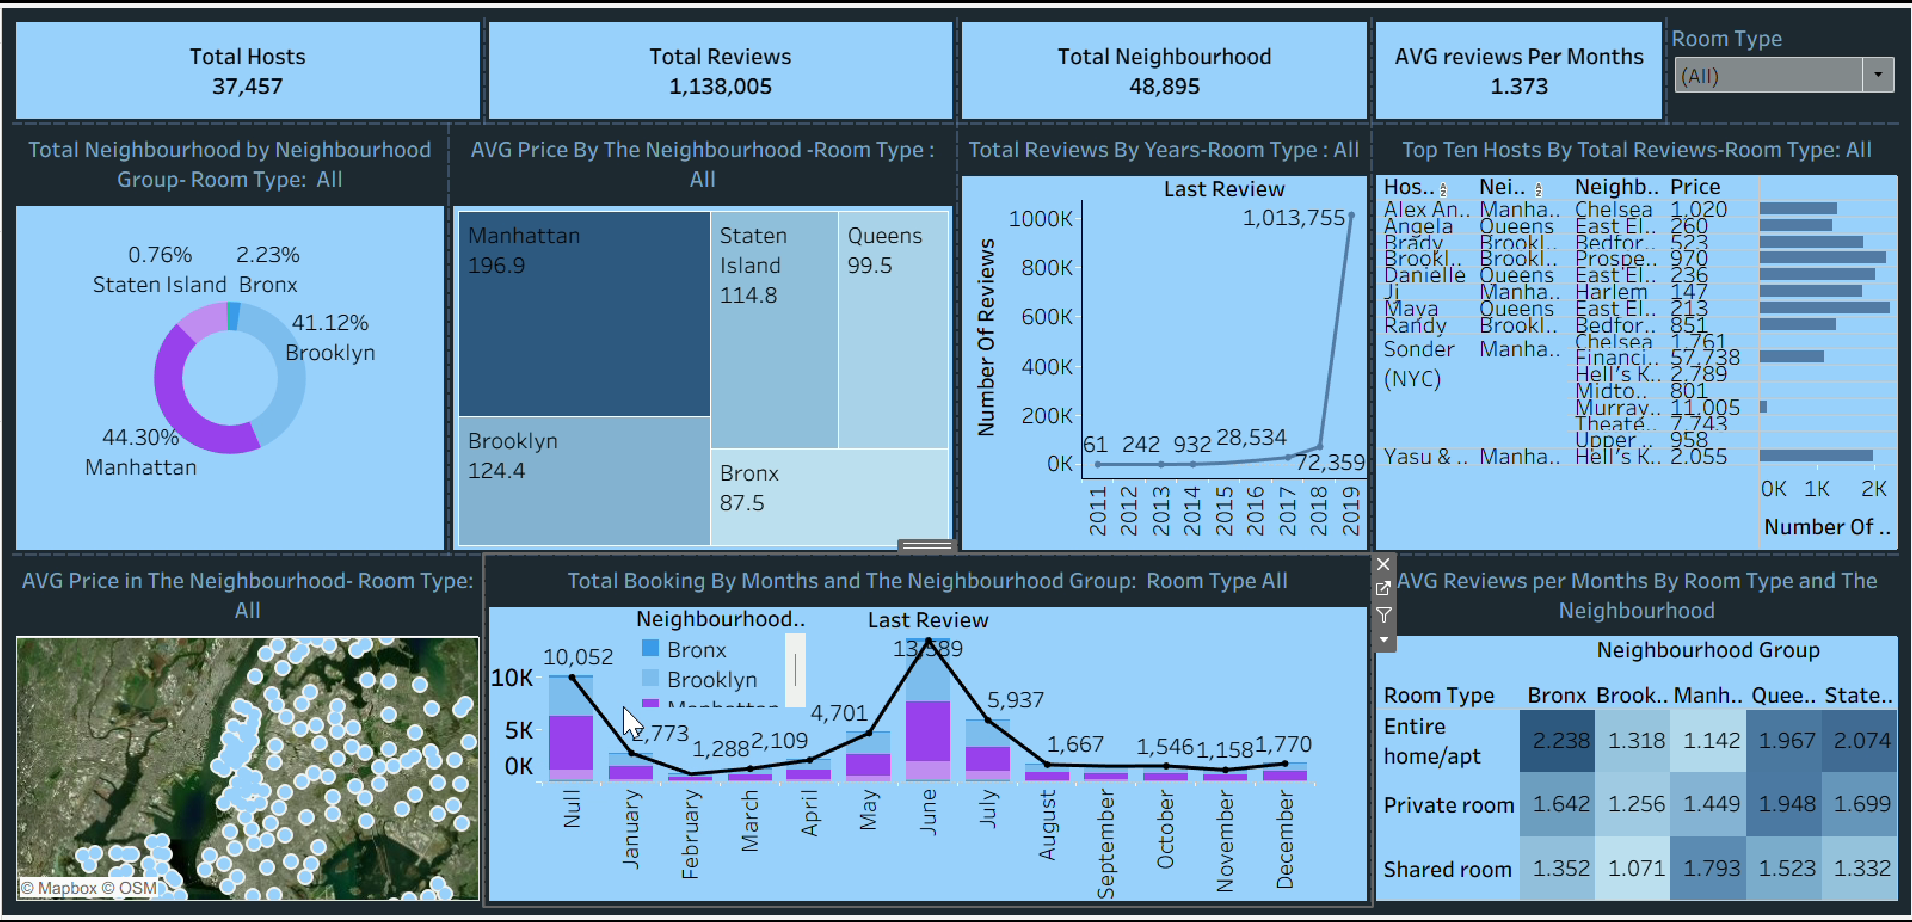

The page's visual inventory and layout, read from the dashboard file:
{"tool":"tableau","page":{"name":"Dashboard 1","canvas":[1600,760],"ordinal":0},"visuals":[{"type":"worksheet","title":"Sheet 8","mark":"Automatic","box":[8,8,396,89]},{"type":"worksheet","title":"Sheet 10","mark":"Automatic","box":[404,8,396,89]},{"type":"worksheet","title":"Sheet 9","mark":"Automatic","box":[800,8,347,89]},{"type":"worksheet","title":"Sheet 11","mark":"Automatic","box":[1147,8,247,89]},{"type":"filter","title":"Sheet 2","param":"[federated.0wsu5uz0jcg80z14oqvrx0cnjrel].[none:room_type:nk]","box":[1394,8,198,70]},{"type":"worksheet","title":"Sheet 2","mark":"Pie","rows":["Calculation_1040204455202817","Calculation_1040204455202817"],"box":[8,97,366,361]},{"type":"worksheet","title":"Sheet 5","mark":"Automatic","box":[374,97,426,361]},{"type":"worksheet","title":"Sheet 4","mark":"Automatic","rows":["number_of_reviews"],"cols":["last_review"],"box":[800,97,347,361]},{"type":"worksheet","title":"Sheet 7","mark":"Automatic","rows":["host_name","neighbourhood_group","neighbourhood","price"],"cols":["number_of_reviews"],"box":[1147,97,445,361]},{"type":"worksheet","title":"Sheet 1","mark":"Automatic","rows":["latitude"],"cols":["longitude"],"box":[8,458,396,294]},{"type":"worksheet","title":"Sheet 3","mark":"Bar","rows":["id","id"],"cols":["last_review"],"box":[404,458,743,294]},{"type":"worksheet","title":"Sheet 6","mark":"Square","rows":["room_type"],"cols":["neighbourhood_group"],"box":[1147,458,445,294]},{"type":"legend","title":"Sheet 2","param":"[federated.0wsu5uz0jcg80z14oqvrx0cnjrel].[none:neighbourhood_group:nk]","box":[531,498,144,88]}]}

Visuals, with their boxes in screenshot pixels (x1, y1, x2, y2), scaled from the page's 1600x760 canvas onto the 1912x922 screenshot:
"Sheet 8" worksheet: {"x1": 10, "y1": 10, "x2": 483, "y2": 118}
"Sheet 10" worksheet: {"x1": 483, "y1": 10, "x2": 956, "y2": 118}
"Sheet 9" worksheet: {"x1": 956, "y1": 10, "x2": 1371, "y2": 118}
"Sheet 11" worksheet: {"x1": 1371, "y1": 10, "x2": 1666, "y2": 118}
"Sheet 2" filter: {"x1": 1666, "y1": 10, "x2": 1902, "y2": 95}
"Sheet 2" worksheet (Pie marks): {"x1": 10, "y1": 118, "x2": 447, "y2": 556}
"Sheet 5" worksheet: {"x1": 447, "y1": 118, "x2": 956, "y2": 556}
"Sheet 4" worksheet: {"x1": 956, "y1": 118, "x2": 1371, "y2": 556}
"Sheet 7" worksheet: {"x1": 1371, "y1": 118, "x2": 1902, "y2": 556}
"Sheet 1" worksheet: {"x1": 10, "y1": 556, "x2": 483, "y2": 912}
"Sheet 3" worksheet (Bar marks): {"x1": 483, "y1": 556, "x2": 1371, "y2": 912}
"Sheet 6" worksheet (Square marks): {"x1": 1371, "y1": 556, "x2": 1902, "y2": 912}
"Sheet 2" legend: {"x1": 635, "y1": 604, "x2": 807, "y2": 711}
